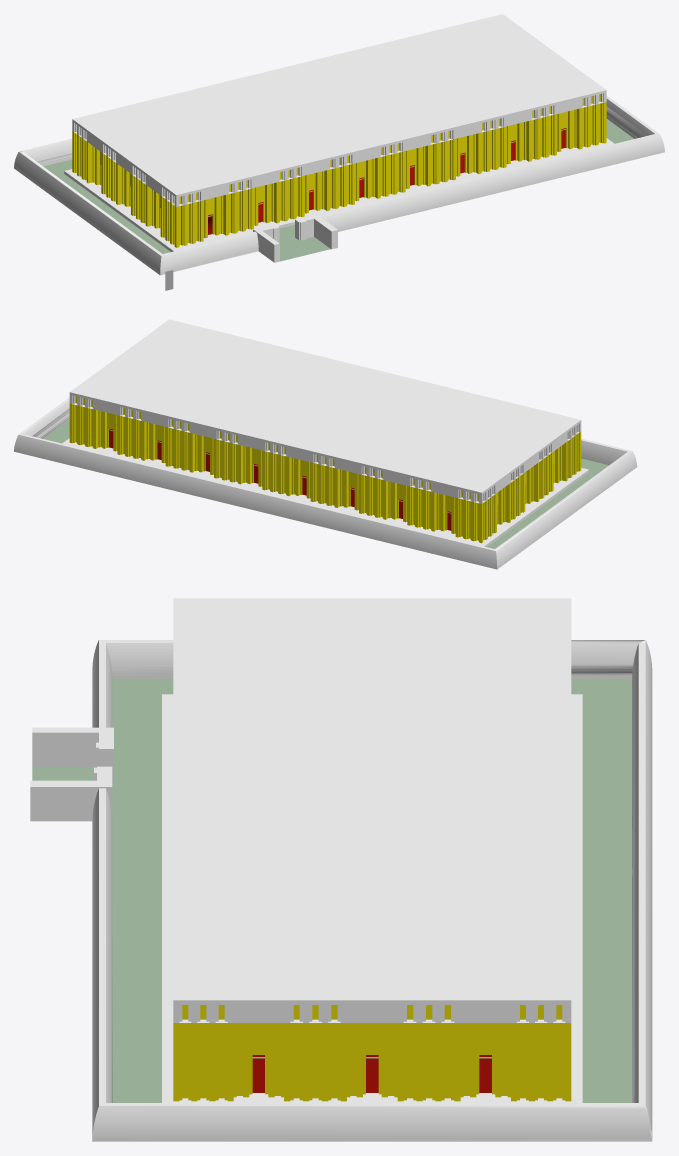
3 views of the same model, one above another, from view 1: azimuth 30°, elevation 25°; view 2: azimuth 150°, elevation 25°; view 3: azimuth 270°, elevation 25° (orthographic). The views are drawn at different scales.
Parts seen in each view (by area): view 1: Mesh1 Model; view 2: Mesh1 Model; view 3: Mesh1 Model.
Part boxes in pixels (x1=…): Mesh1 Model: x1=14, y1=14, x2=664, y2=275; Mesh1 Model: x1=14, y1=319, x2=637, y2=569; Mesh1 Model: x1=30, y1=598, x2=652, y2=1141.
Bounding box in the file's own units: 45.39 × 4.68 × 24.86.
